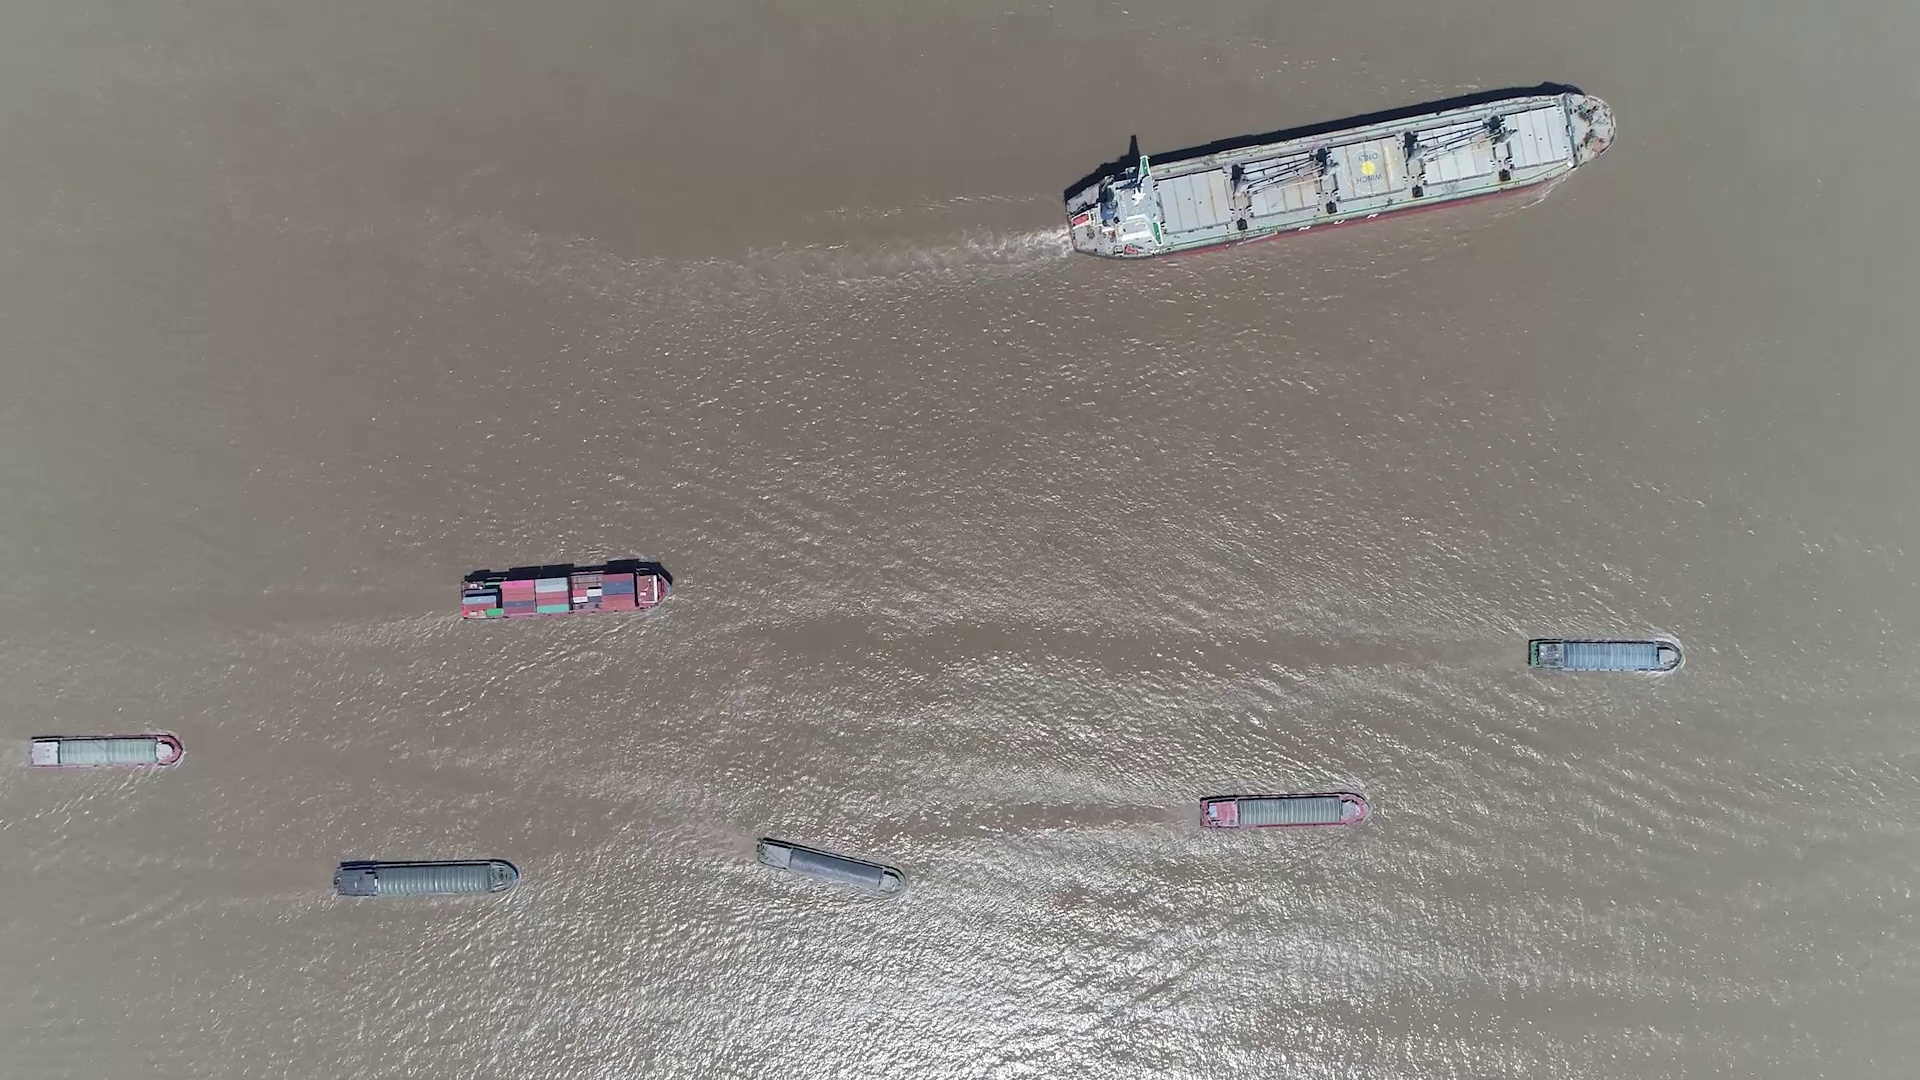ship: (1062, 96, 1615, 257), (462, 564, 671, 622), (756, 837, 905, 895), (334, 860, 520, 898), (1201, 793, 1369, 832), (1530, 637, 1683, 674), (26, 735, 183, 767)
